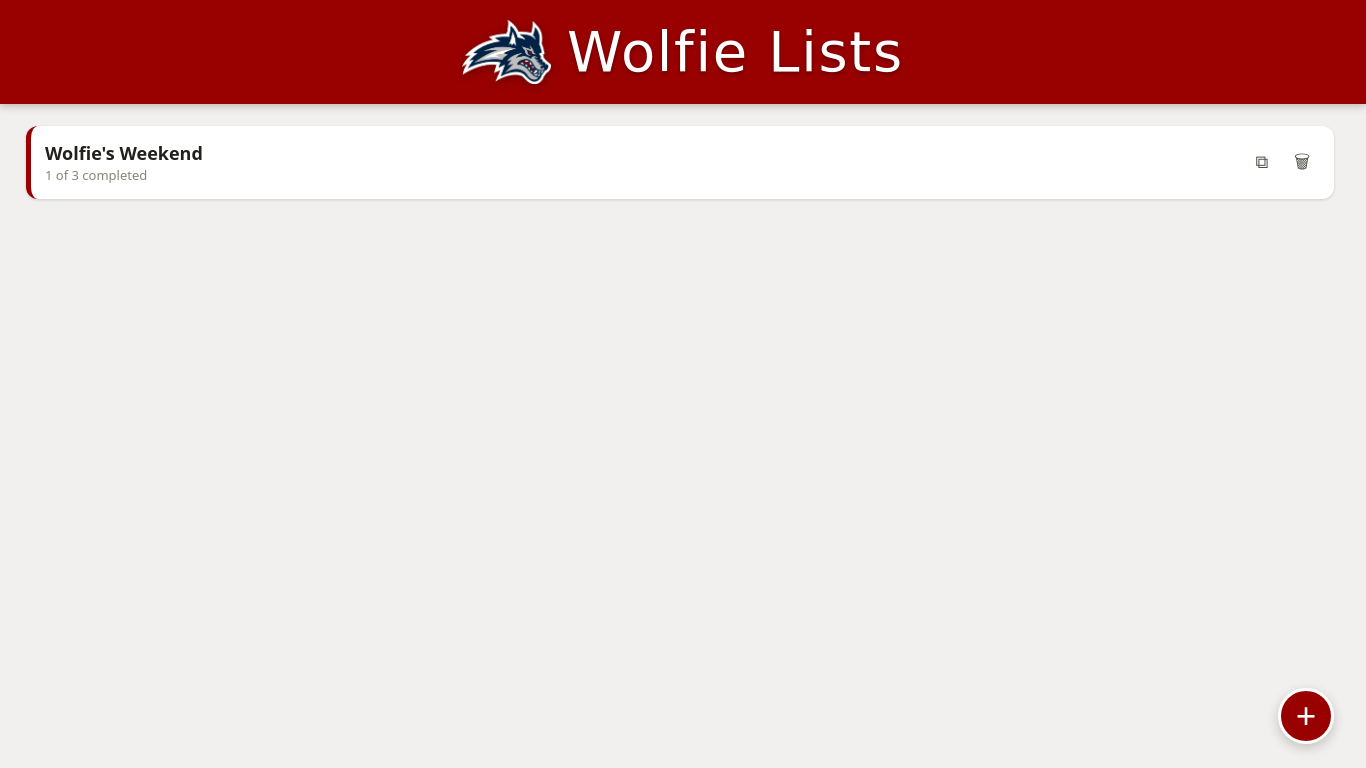
Test case: the item modal, opened on an existing item › says which item of how many it is showing
Click the button with aria-label "Open the list named Wolfie" at (124, 153), box [26,126,1334,199]
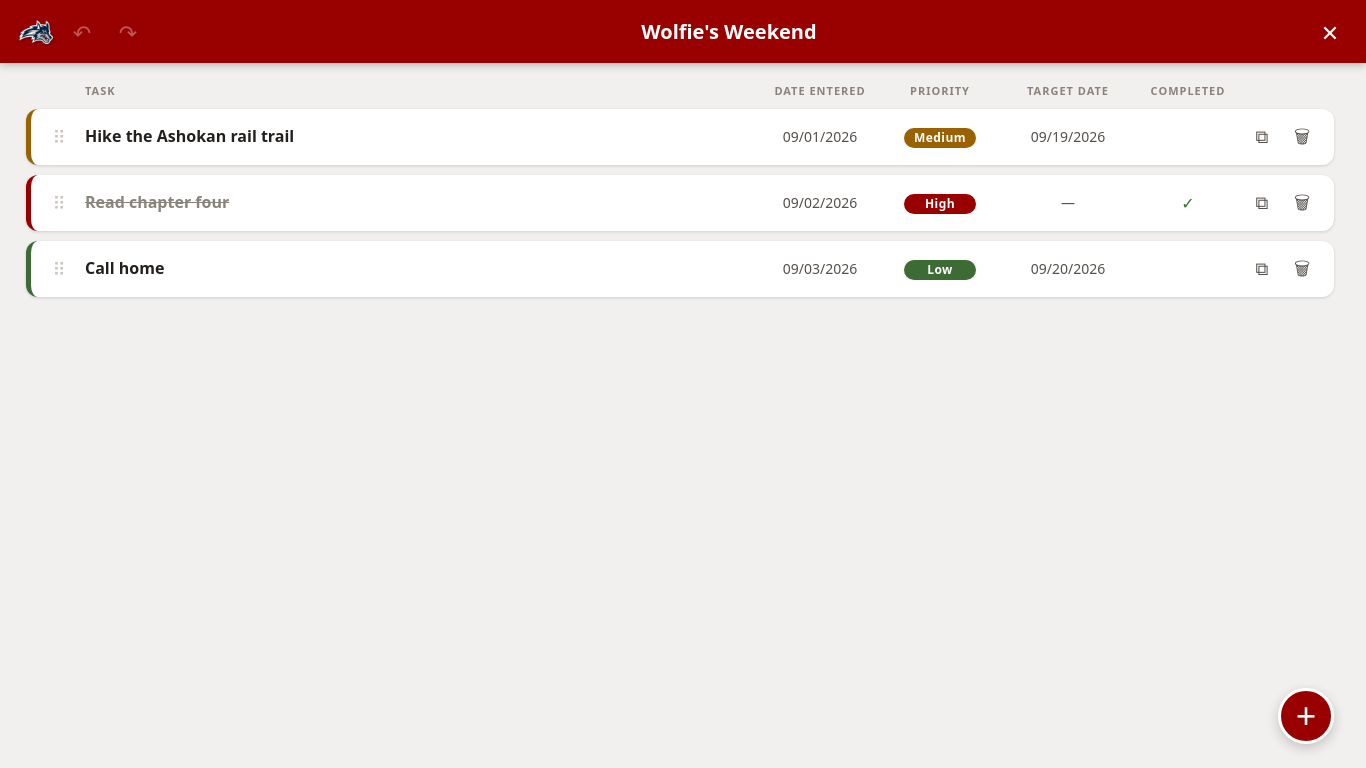
Expected: the field named "The name of this list" is shown, [473,10,985,53]
Click the button with aria-label "Edit the item" at (157, 202), box [26,175,1334,231]
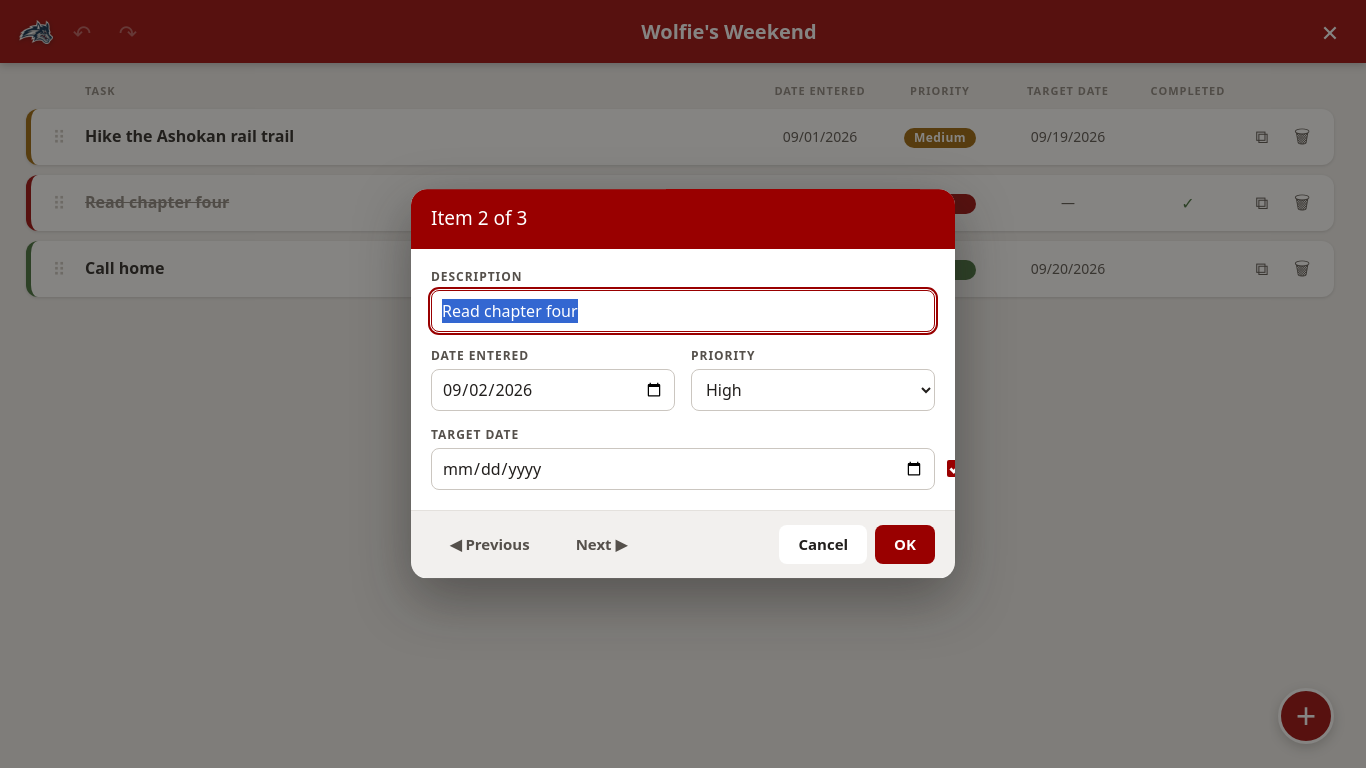
Expected: the field labelled "Description" is shown, [431,290,935,332]
Expected: the heading "Item 2 of 3" is shown, [411,189,955,249]
